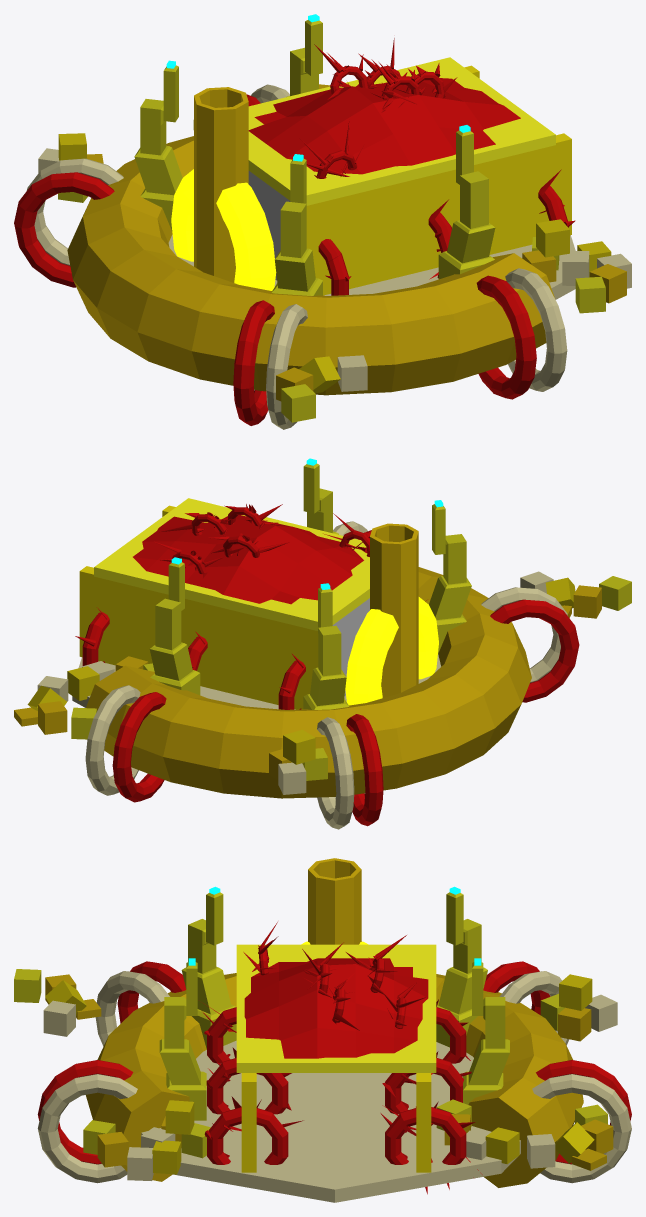
3 renders of one model, top to bottom at view 1: azimuth 30°, elevation 25°; view 2: azimuth 150°, elevation 25°; view 3: azimuth 270°, elevation 25°, orthographic. The views are drawn at different scales.
Visible parts, largest first — view 1: Spawnert1; view 2: Spawnert1; view 3: Spawnert1.
Boxes of the visible parts, x1,y1,x2,y2 form: Spawnert1: (14,14,631,429); Spawnert1: (14,458,631,829); Spawnert1: (14,858,631,1202).
Size of the model in its own units: 4.97 by 2.53 by 6.19.
